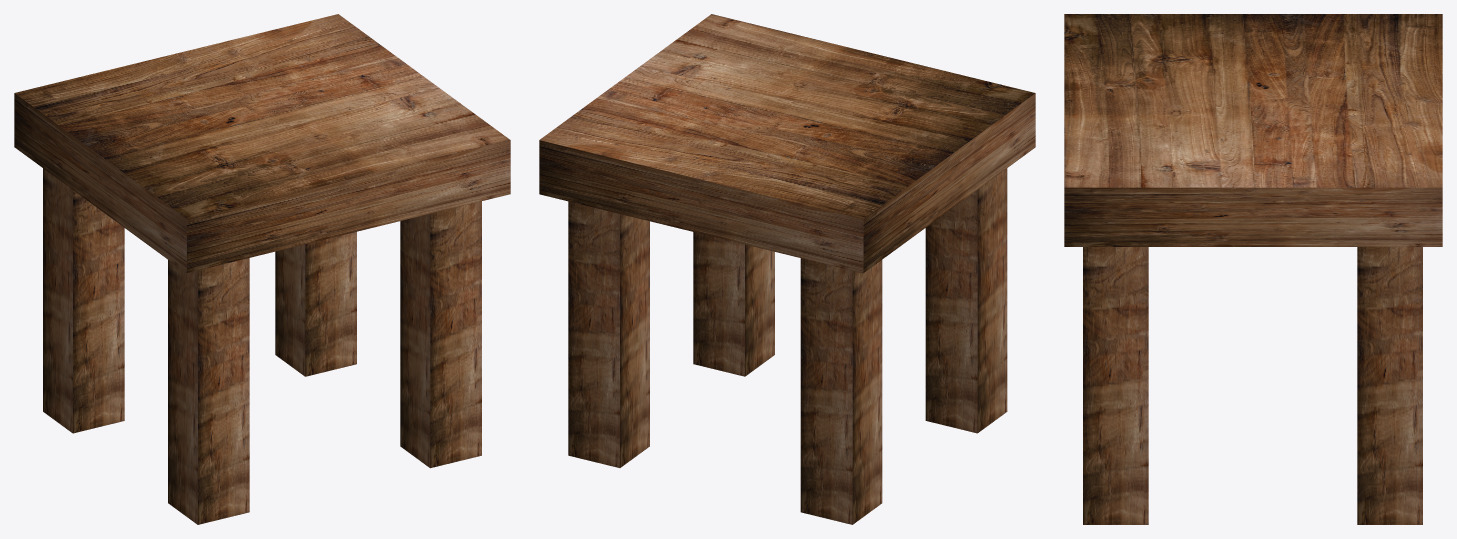
Rendered from stool_wood_texture.fbx.
The picture shows the model from 3 angles, left to right: view 1: azimuth 30°, elevation 25°; view 2: azimuth 150°, elevation 25°; view 3: azimuth 270°, elevation 25°; orthographic projection. The views are drawn at different scales.
Visible parts, largest first — view 1: top, leg3, leg4, leg1, leg2; view 2: top, leg1, leg2, leg3, leg4; view 3: top, leg2, leg4.
Part boxes in pixels (left/top/right/bottom): top: left=14, top=14, right=510, bottom=273; leg3: left=168, top=258, right=249, bottom=524; leg4: left=400, top=201, right=481, bottom=468; leg1: left=43, top=168, right=124, bottom=433; leg2: left=275, top=231, right=356, bottom=376; top: left=539, top=14, right=1035, bottom=273; leg1: left=800, top=258, right=882, bottom=524; leg2: left=568, top=201, right=649, bottom=467; leg3: left=925, top=168, right=1007, bottom=433; leg4: left=693, top=232, right=774, bottom=376; top: left=1064, top=14, right=1442, bottom=246; leg2: left=1357, top=247, right=1422, bottom=524; leg4: left=1083, top=247, right=1148, bottom=524.
Size of the model in its own units: 1252 by 1170 by 1153.
1 material, 1 textured.
